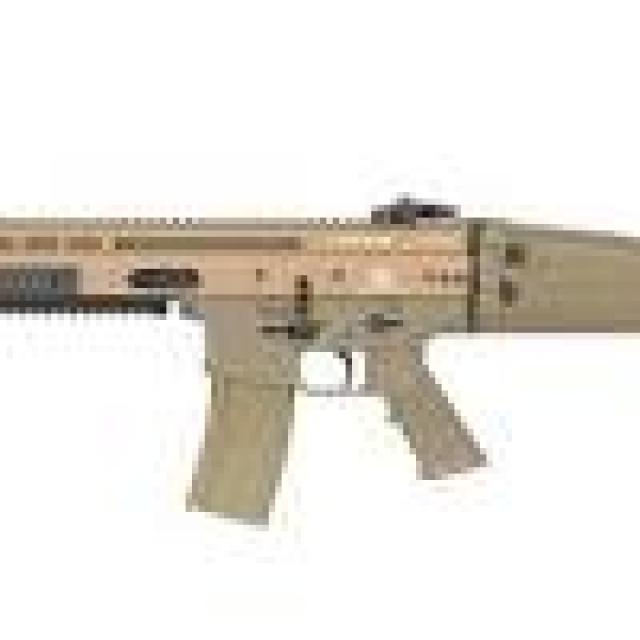Gun: (0, 169, 640, 522)
